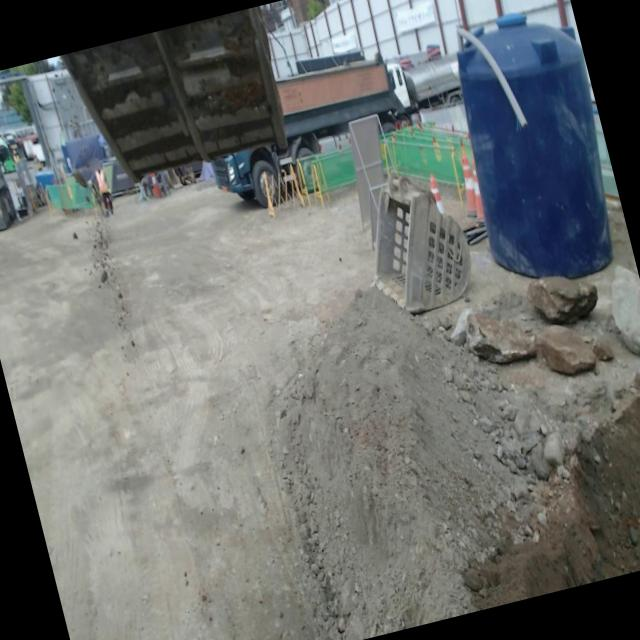red-sand: (462, 392, 640, 611)
stone: (466, 311, 536, 363), (527, 277, 597, 323), (536, 325, 596, 374), (611, 265, 640, 354)
white-sand: (0, 184, 373, 640), (280, 288, 522, 640)
